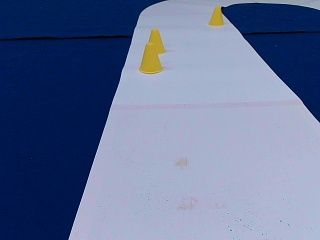cone: (138, 40, 163, 73), (147, 29, 164, 53), (208, 6, 223, 25)
